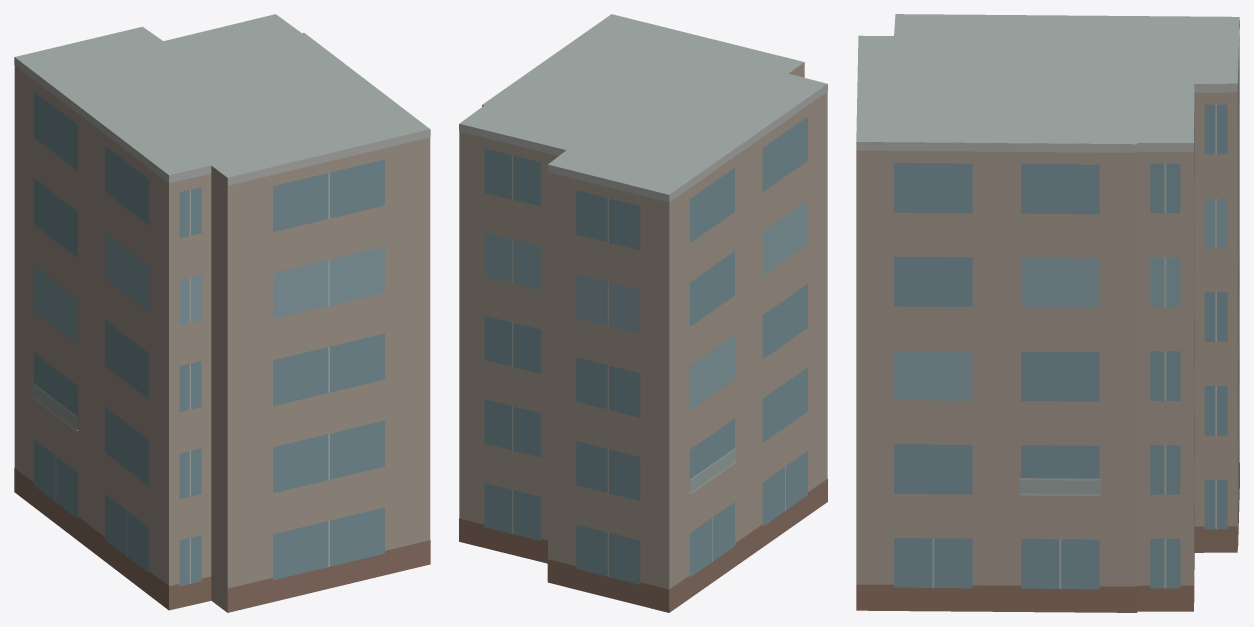
Rendered from survey-upis-32631289.glb.
The picture shows the model from 3 angles, left to right: view 1: azimuth 30°, elevation 25°; view 2: azimuth 150°, elevation 25°; view 3: azimuth 270°, elevation 25°; orthographic projection. The views are drawn at different scales.
Visible parts, largest first — view 1: survey-upis-32631289.tmp; view 2: survey-upis-32631289.tmp; view 3: survey-upis-32631289.tmp.
Boxes of the visible parts, bbox=[...] form: survey-upis-32631289.tmp: bbox=[14, 14, 430, 612]; survey-upis-32631289.tmp: bbox=[459, 14, 827, 612]; survey-upis-32631289.tmp: bbox=[856, 14, 1239, 612].
Bounding box in the file's own units: 7.89 × 13.2 × 9.8.
